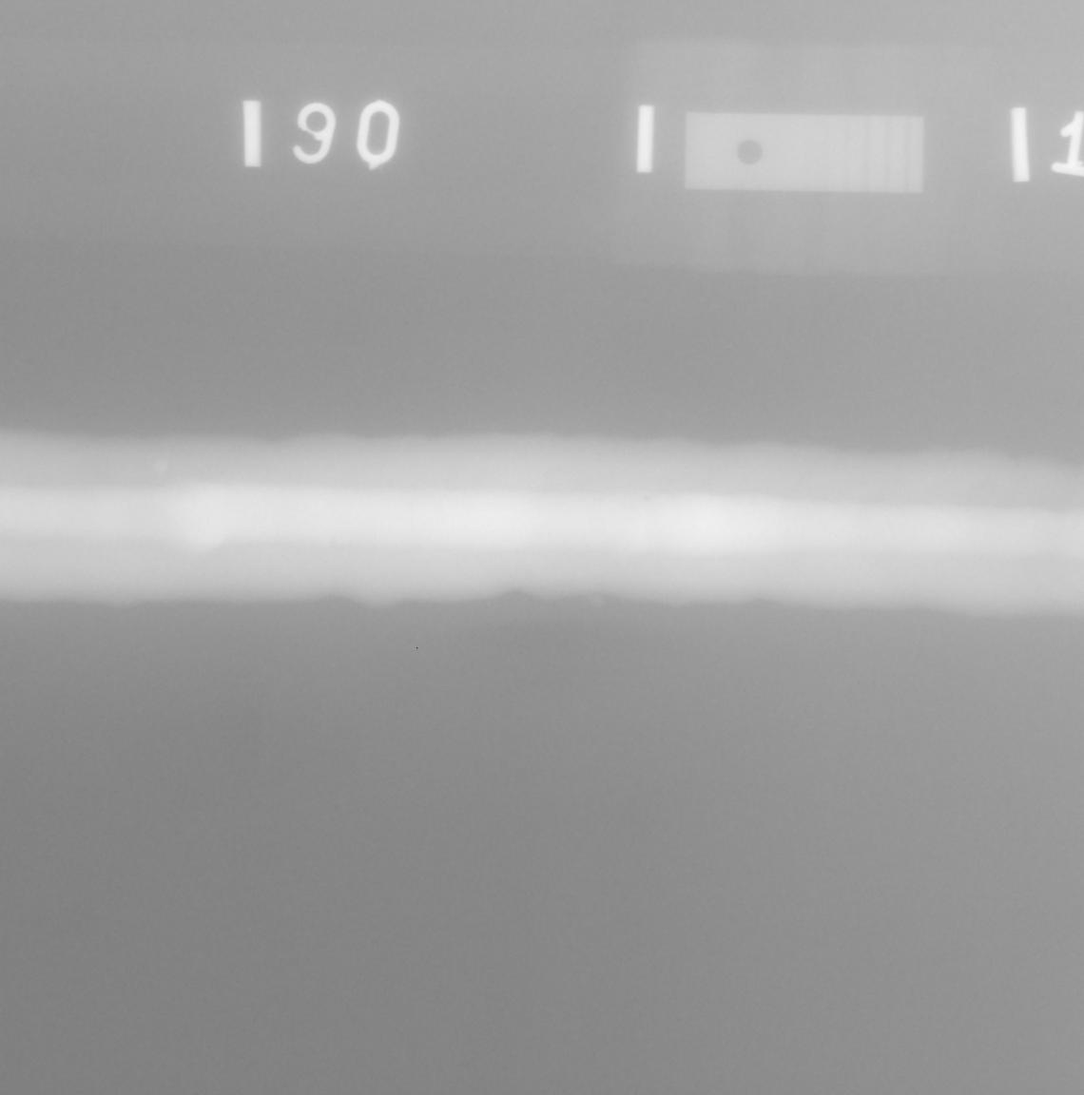Pore/Porosity: (644, 496, 649, 502)
Reference Standard 1: (685, 112, 922, 193)
